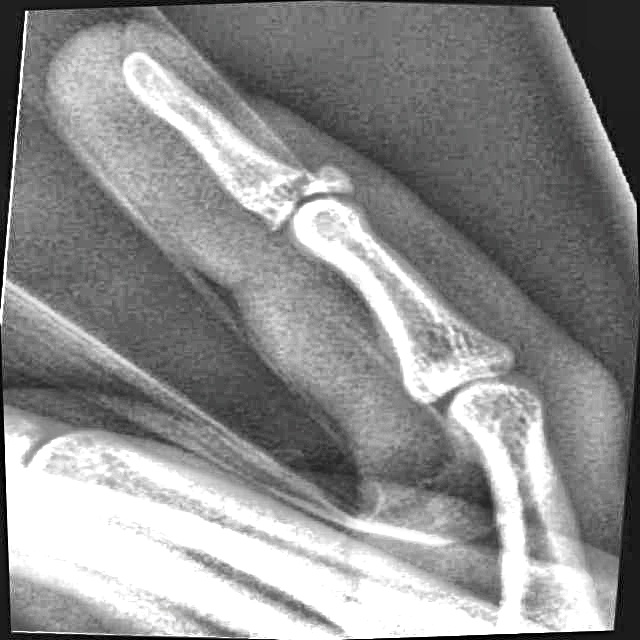Greenstick: (253, 164, 367, 234)
